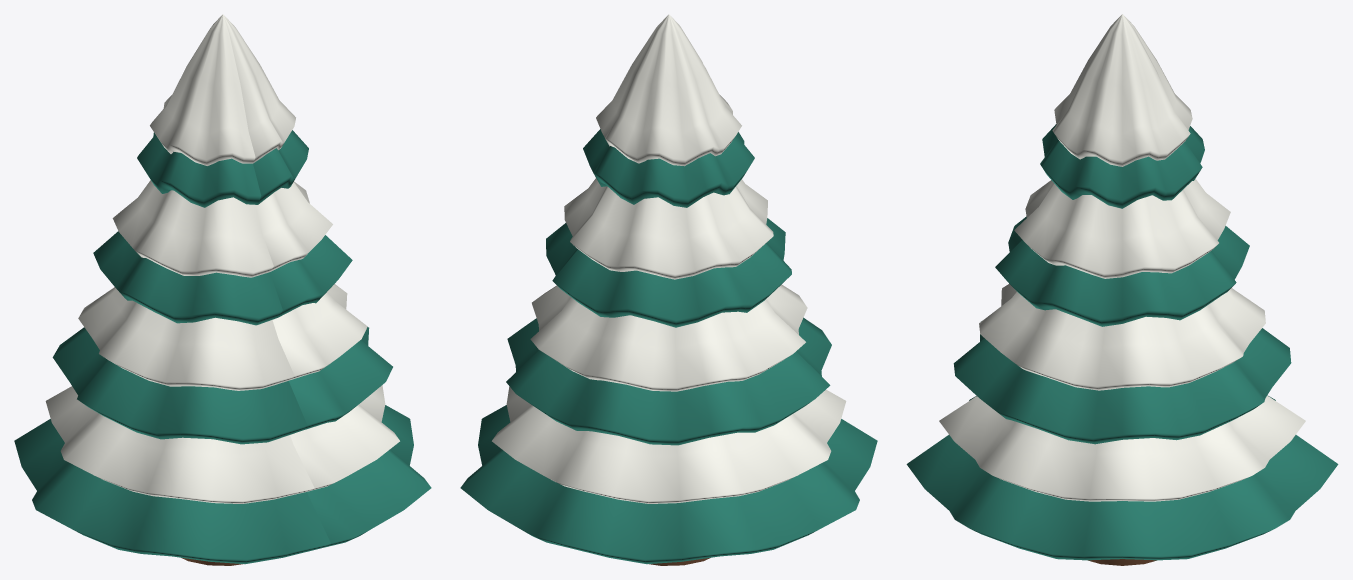
The model's file is storybook-christmas-market-snow-laden-spruce-384901ac__19689.glb.
3 renders of one model, left to right at view 1: azimuth 30°, elevation 25°; view 2: azimuth 150°, elevation 25°; view 3: azimuth 270°, elevation 25°, orthographic.
Visible parts, largest first — view 1: snow-laden-spruce; view 2: snow-laden-spruce; view 3: snow-laden-spruce.
Part boxes in pixels (bbox=[...]): snow-laden-spruce: bbox=[14, 14, 431, 565]; snow-laden-spruce: bbox=[460, 14, 877, 565]; snow-laden-spruce: bbox=[906, 14, 1338, 565].
Bounding box in the file's own units: 2.48 × 3.35 × 2.48.
